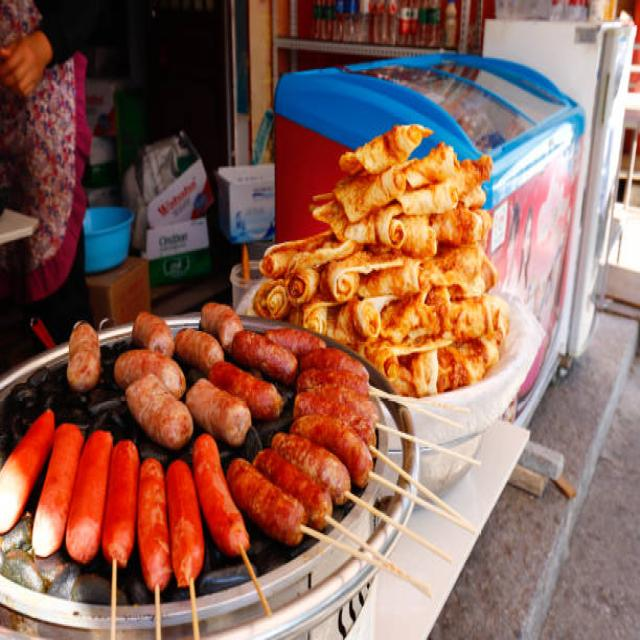Emperan: (0, 95, 559, 640)
